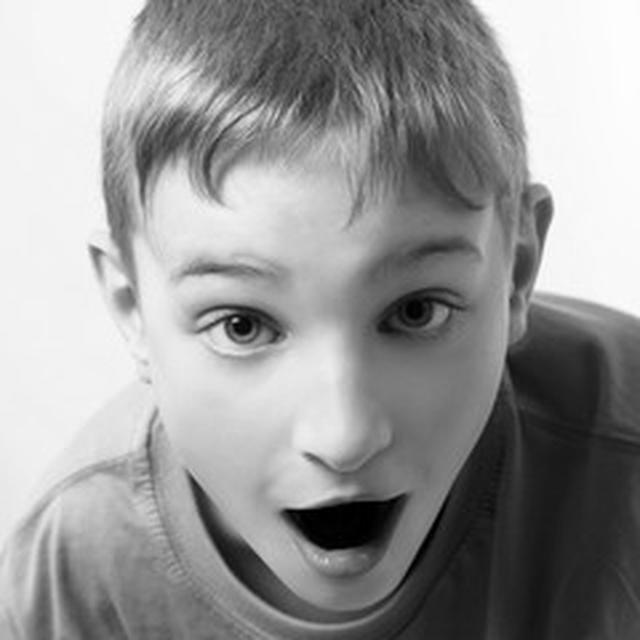Surprised: (132, 127, 510, 610)
